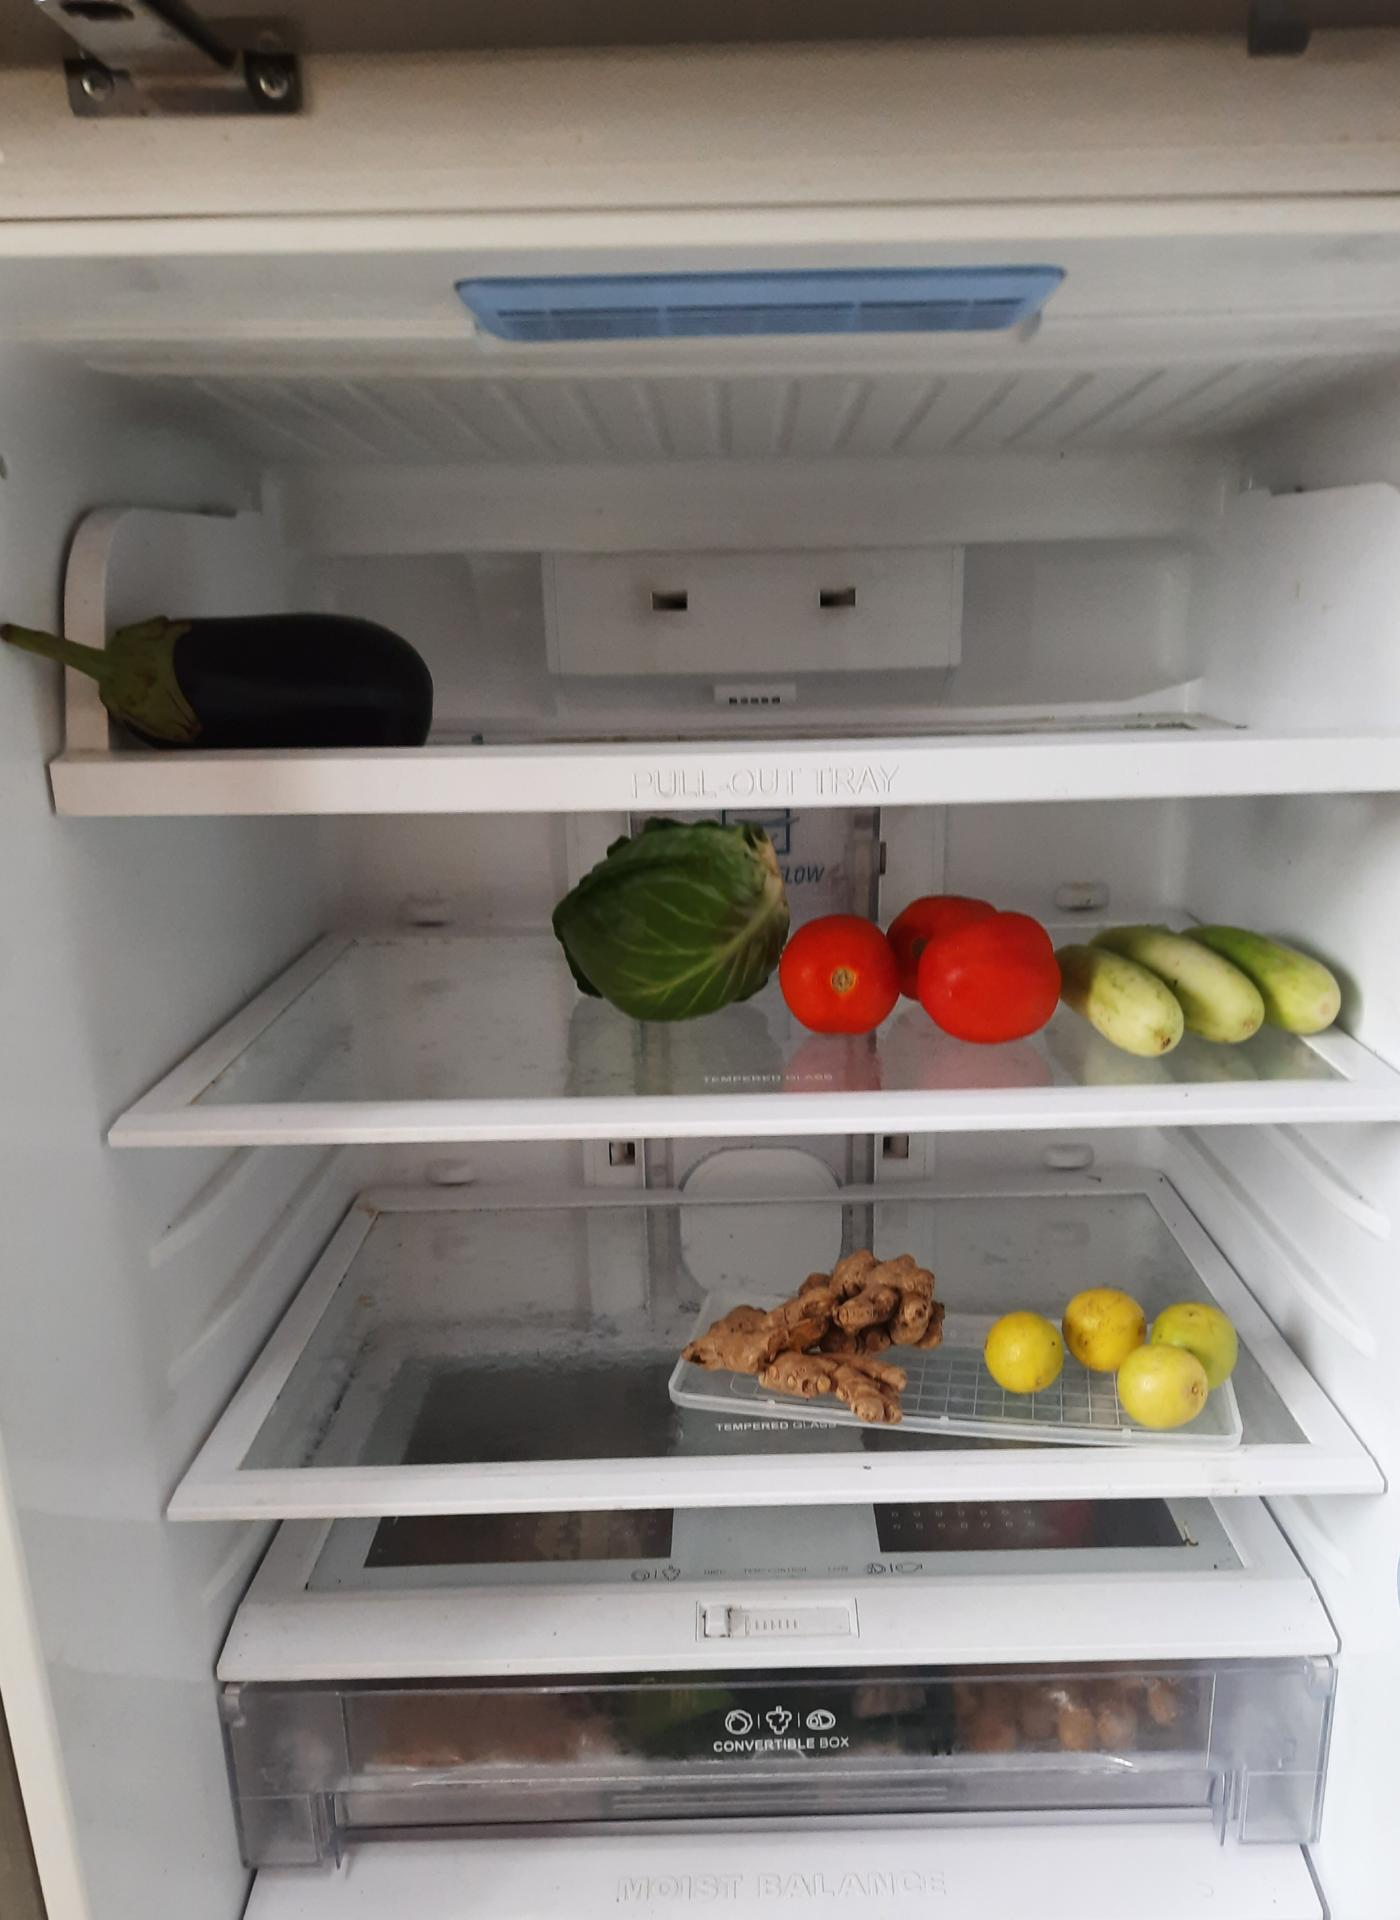brinjal: (6, 586, 449, 756)
cabbage: (549, 827, 789, 1032)
cucumber: (1075, 918, 1355, 1052)
ginger: (681, 1252, 951, 1424)
lemon: (1072, 1283, 1246, 1421), (983, 1307, 1065, 1395)
tomato: (777, 890, 1060, 1039)
